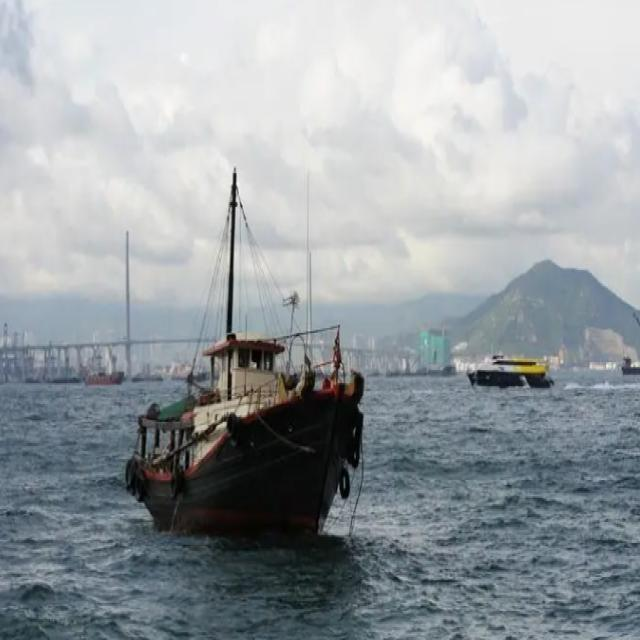fishing boat: (127, 178, 370, 533)
houseboat: (468, 351, 552, 396)
